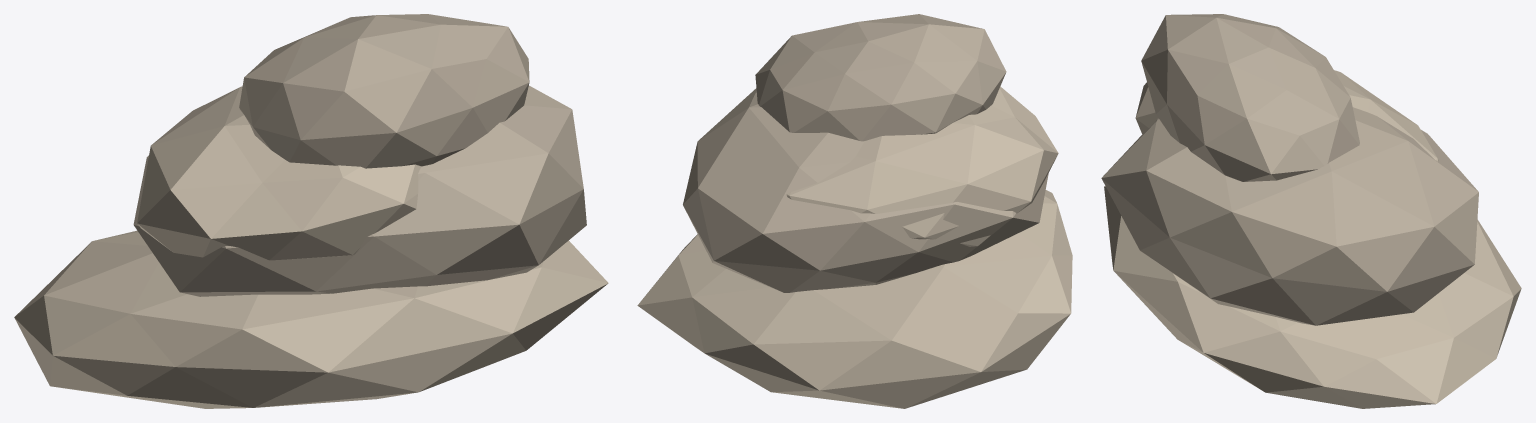
File: campo_rock_slate_2.glb
3 views of the same model, side by side, from view 1: azimuth 30°, elevation 25°; view 2: azimuth 150°, elevation 25°; view 3: azimuth 270°, elevation 25° (orthographic). The views are drawn at different scales.
Parts seen in each view (by area): view 1: campo_rock_slate_2.glb; view 2: campo_rock_slate_2.glb; view 3: campo_rock_slate_2.glb.
Part boxes in pixels (x1,y1,x2,y2): campo_rock_slate_2.glb: (14,14,608,408); campo_rock_slate_2.glb: (637,14,1072,408); campo_rock_slate_2.glb: (1101,14,1521,408).
Bounding box in the file's own units: 1.85 × 1.35 × 1.6.
